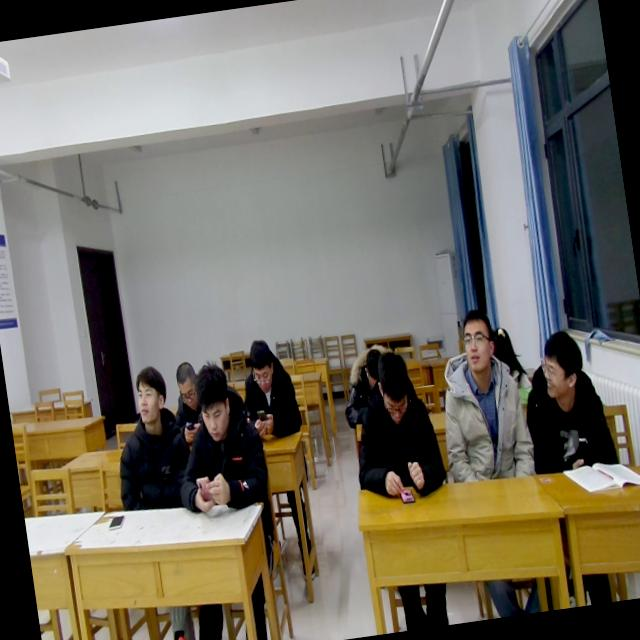bow: (234, 333, 305, 443), (334, 338, 400, 428), (167, 358, 210, 446)
down: (192, 355, 240, 449), (372, 346, 422, 426), (243, 332, 280, 396), (169, 352, 203, 415), (486, 310, 516, 368), (356, 336, 388, 384)
lookup: (455, 306, 499, 380), (127, 359, 172, 431)
sit: (428, 305, 540, 490), (160, 356, 276, 522), (340, 344, 449, 503), (512, 322, 620, 479), (102, 360, 197, 516)
